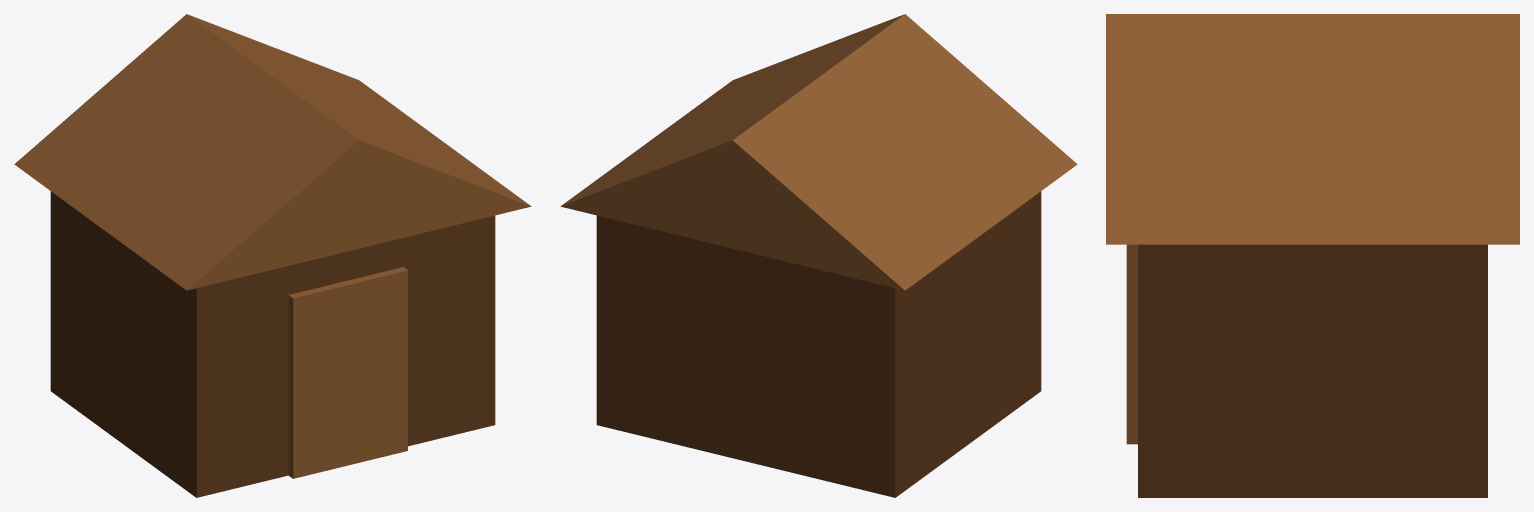
The model's file is shed.glb.
The picture shows the model from 3 angles, left to right: view 1: azimuth 30°, elevation 25°; view 2: azimuth 150°, elevation 25°; view 3: azimuth 270°, elevation 25°; orthographic projection. The views are drawn at different scales.
Parts seen in each view (by area): view 1: shed; view 2: shed; view 3: shed.
Boxes of the visible parts, <box> form: shed: <box>14,14,531,497</box>; shed: <box>560,14,1077,497</box>; shed: <box>1106,14,1519,497</box>.
Bounding box in the file's own units: 3 × 2.75 × 2.6.
